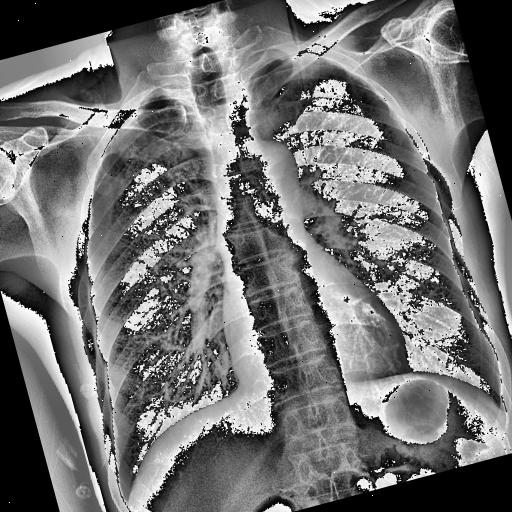11- Pleural thickening: (280, 41, 340, 82)
13- Pulmonary fibrosis: (102, 116, 182, 192), (116, 121, 196, 196), (98, 126, 162, 180)
